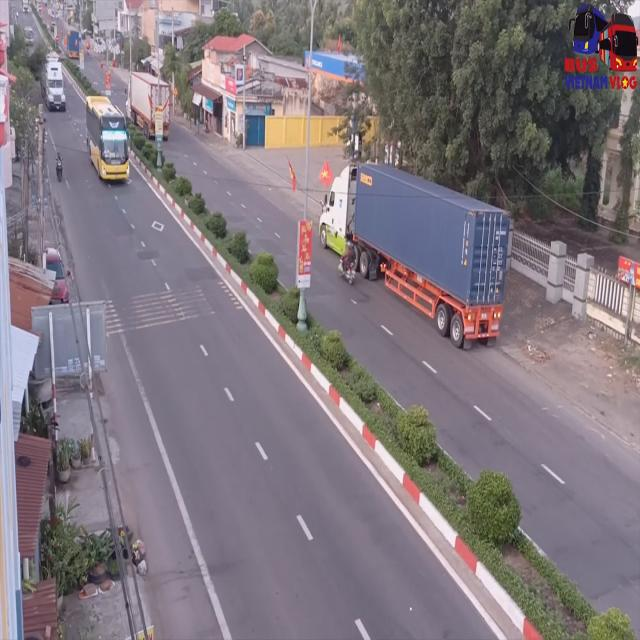bus: (82, 100, 128, 186)
motorbike: (56, 150, 64, 183)
truck: (319, 168, 510, 354), (126, 73, 170, 141)
